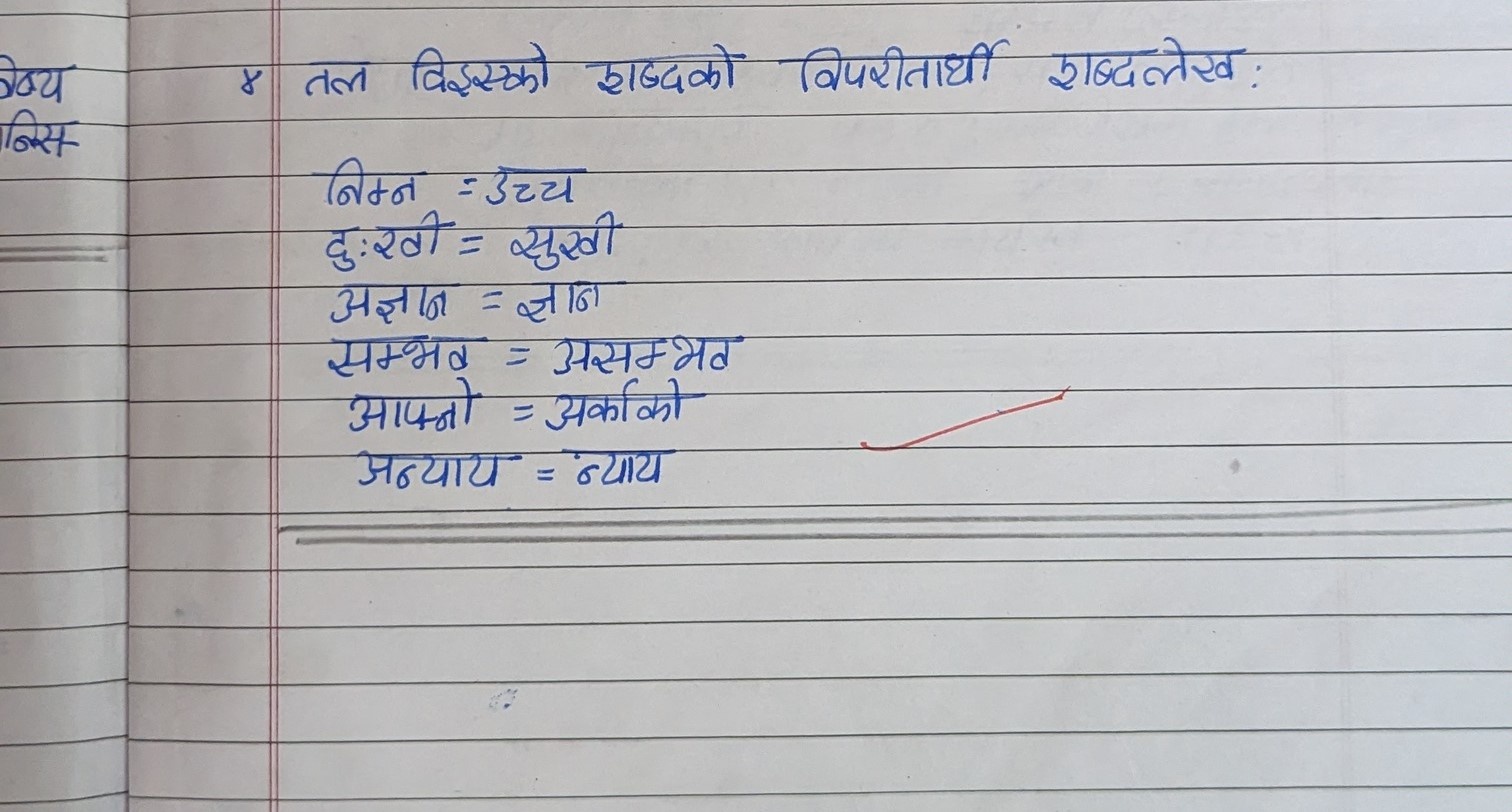text: (785, 33, 1002, 112), (1048, 27, 1256, 105), (592, 32, 755, 110), (396, 24, 562, 100), (317, 325, 484, 380), (541, 375, 702, 432), (345, 447, 528, 495), (538, 334, 742, 375), (334, 382, 486, 435), (317, 268, 453, 326), (310, 153, 432, 213), (474, 147, 585, 206), (509, 212, 625, 268), (311, 219, 445, 266), (506, 276, 632, 324), (558, 445, 676, 487), (293, 42, 371, 97), (232, 42, 271, 111)
